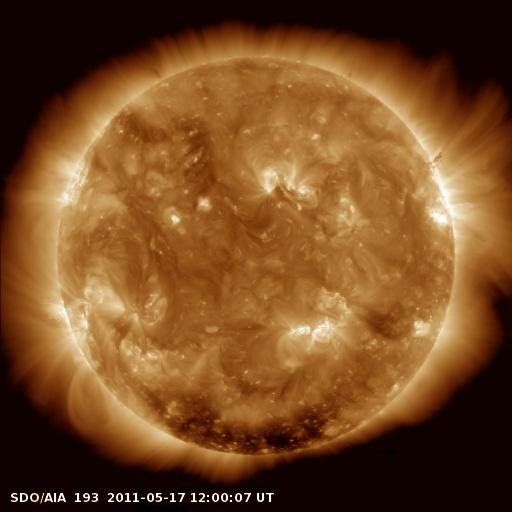coronal_hole: (138, 389, 328, 456)
